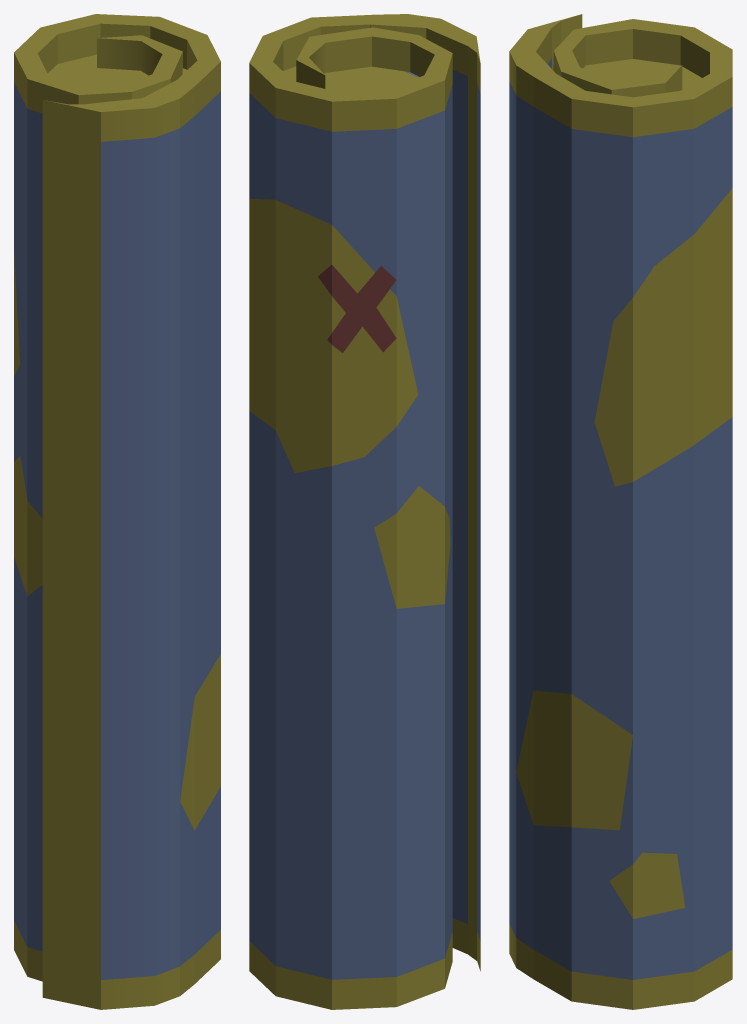
Rendered from Treasure_Map.fbx.
3 renders of one model, left to right at view 1: azimuth 30°, elevation 25°; view 2: azimuth 150°, elevation 25°; view 3: azimuth 270°, elevation 25°, orthographic.
Parts seen in each view (by area): view 1: Map1; view 2: Map1; view 3: Map1.
Part boxes in pixels (x1=…): Map1: x1=14, y1=14, x2=220, y2=1009; Map1: x1=249, y1=14, x2=480, y2=1009; Map1: x1=509, y1=14, x2=732, y2=1009.
Size of the model in its own units: 2.36 by 10.66 by 2.39.
